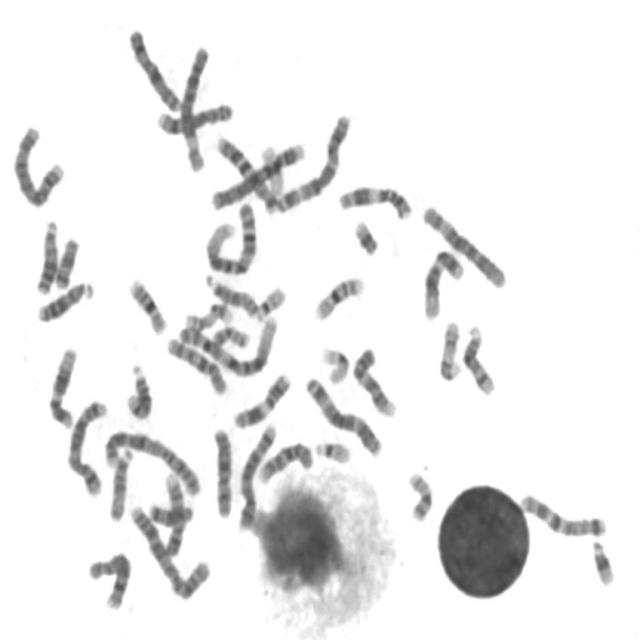A1: (175, 311, 279, 378), (202, 197, 260, 277)
A2: (126, 499, 212, 603), (100, 424, 204, 498)
A3: (271, 107, 352, 215), (301, 372, 384, 459)
B4: (206, 136, 308, 212), (10, 120, 67, 209)
B5: (235, 419, 279, 532), (64, 394, 110, 498)
C10: (163, 332, 230, 398), (254, 436, 315, 486)
C11: (230, 367, 294, 432), (334, 179, 415, 221)
C12: (419, 243, 466, 322), (45, 342, 79, 431)
C6: (419, 198, 509, 290), (177, 40, 213, 174)
C7: (215, 133, 282, 220), (516, 488, 610, 540)
C8: (84, 546, 133, 613), (154, 98, 235, 136)
C9: (350, 343, 400, 419), (160, 468, 187, 558)
D13: (34, 276, 96, 324), (32, 214, 60, 296)
D14: (460, 320, 498, 398), (123, 359, 155, 421)
D15: (201, 269, 260, 320), (105, 443, 136, 524)
E16: (310, 271, 367, 323), (125, 273, 169, 337)
E17: (436, 316, 464, 383), (181, 298, 236, 332)
E18: (142, 501, 201, 530), (52, 233, 82, 290)
F19: (258, 140, 284, 201), (318, 342, 351, 386)
F20: (404, 466, 436, 524), (208, 321, 252, 351)
G21: (588, 535, 617, 588), (350, 216, 380, 257)
G22: (253, 281, 288, 323), (311, 436, 353, 466)
X: (125, 22, 184, 114), (209, 423, 235, 521)
